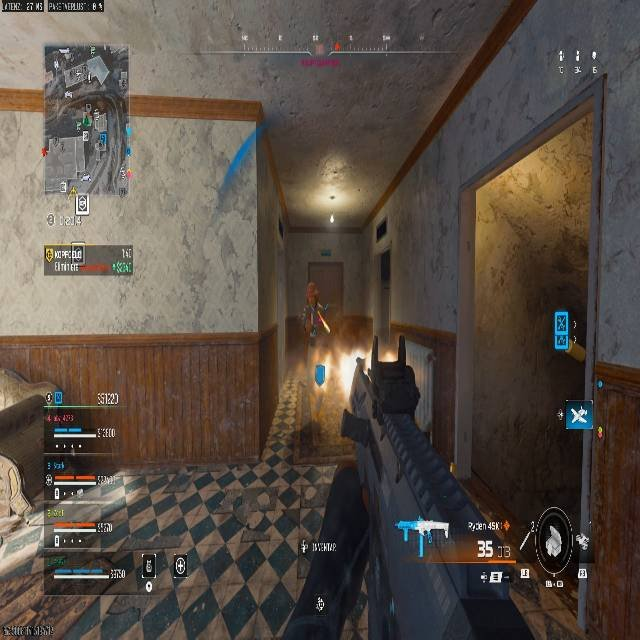player: (305, 283, 327, 337)
